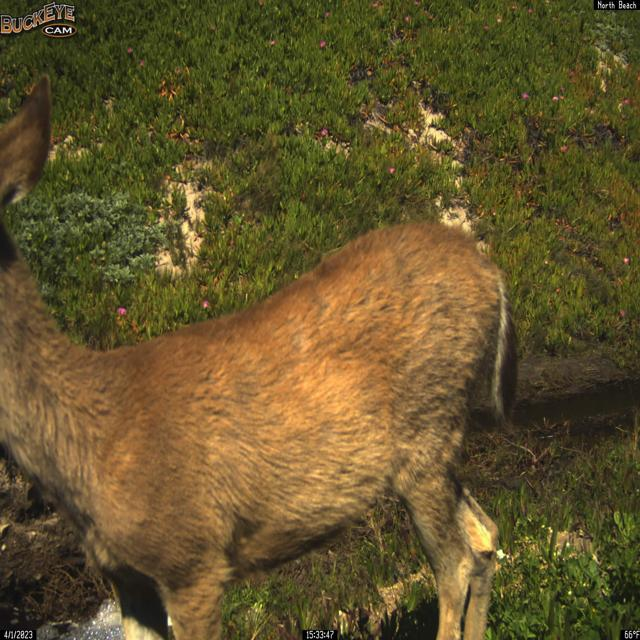deer: (0, 69, 521, 640)
